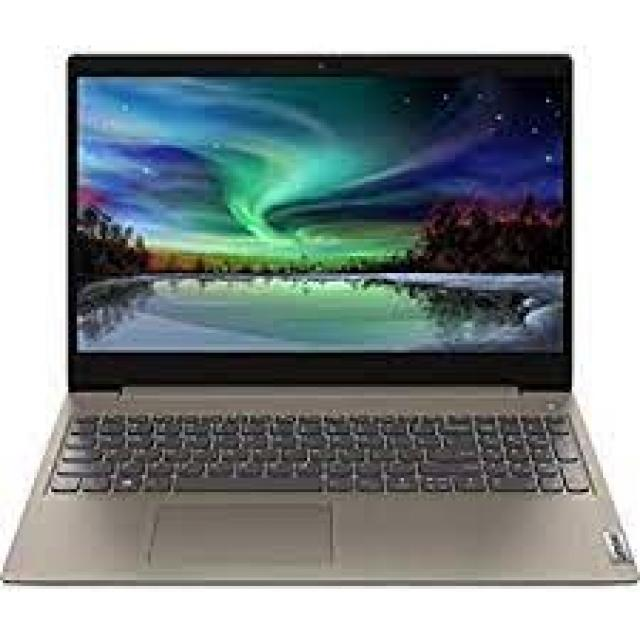others: (3, 34, 640, 597)
